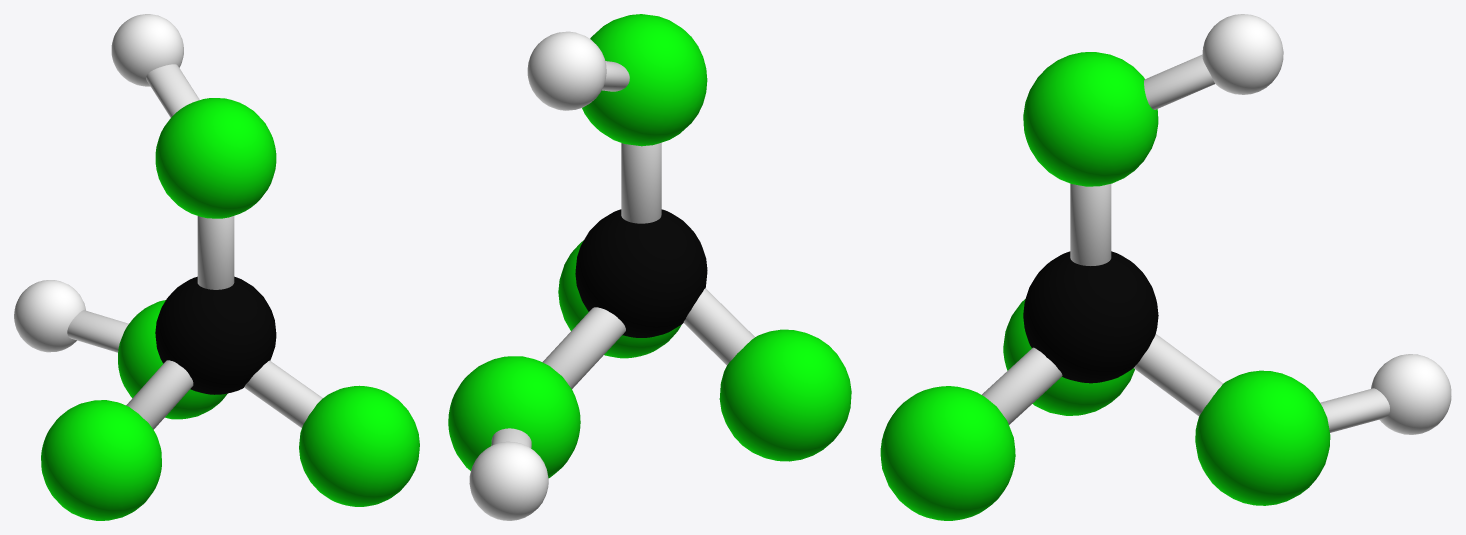
The picture shows the model from 3 angles, left to right: view 1: azimuth 30°, elevation 25°; view 2: azimuth 150°, elevation 25°; view 3: azimuth 270°, elevation 25°; orthographic projection. The views are drawn at different scales.
Parts seen in each view (by area): view 1: O-1, O-3, O-2, S, O-4, O-H-2, O-H-1, S-O-1(S), S-O-2(S), S-O-3(S), O-H-2(S), O-H-1(S); view 2: O-3, S, O-1, O-4, O-H-1, O-H-2, S-O-4(S), S-O-1(S), S-O-3(S), O-2, O-H-1(S), O-H-2(S); view 3: O-2, O-4, O-1, S, O-H-1, O-H-2, O-3, S-O-4(S), S-O-1(S), S-O-2(S), O-H-1(S), O-H-2(S).
Part boxes in pixels (x1,y1,x2,y2): O-1: (155,98,276,218); O-3: (41,400,161,520); O-2: (299,385,419,506); S: (155,276,276,394); O-4: (118,300,227,419); O-H-2: (14,280,85,352); O-H-1: (111,14,183,86); S-O-1(S): (197,216,234,289); S-O-2(S): (244,360,322,427); S-O-3(S): (126,360,193,429); O-H-2(S): (67,310,128,352); O-H-1(S): (146,64,199,117); O-3: (719,329,851,461); S: (575,209,707,337); O-1: (582,14,707,146); O-4: (448,356,580,478); O-H-1: (527,31,606,110); O-H-2: (469,441,548,520); S-O-4(S): (542,307,625,388); S-O-1(S): (621,142,661,223); S-O-3(S): (683,288,754,365); O-2: (558,240,681,358); O-H-1(S): (602,61,629,91); O-H-2(S): (491,428,531,448); O-2: (880,386,1015,520); O-4: (1195,370,1330,505); O-1: (1023,52,1158,186); S: (1023,251,1158,383); O-H-1: (1202,14,1283,94); O-H-2: (1371,354,1451,434); O-3: (1003,299,1134,415); S-O-4(S): (1134,334,1222,416); S-O-1(S): (1070,183,1111,265); S-O-2(S): (982,347,1062,424); O-H-1(S): (1144,54,1214,109); O-H-2(S): (1320,388,1389,432).
Size of the model in its own units: 732 by 938 by 1054.
